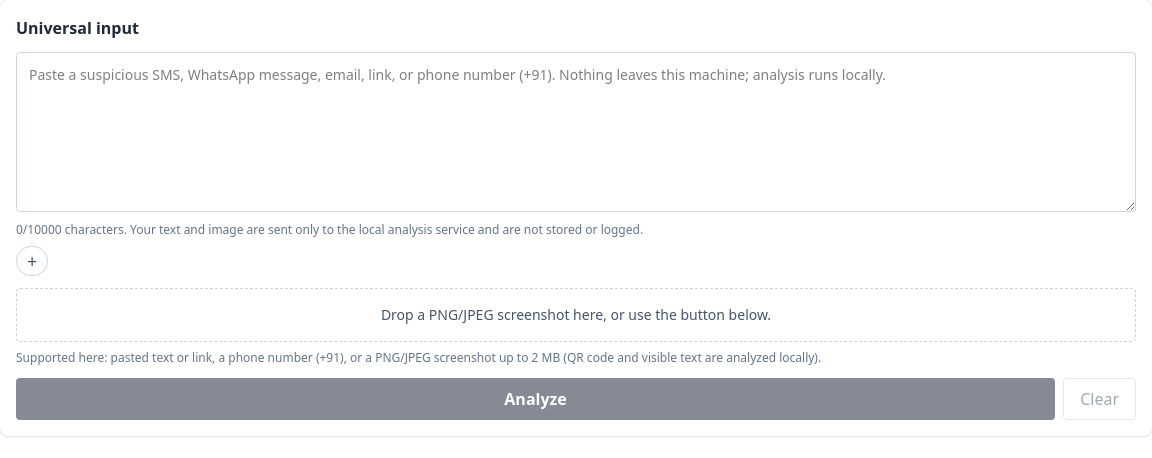
Test: InputPanel › shows the phone-number detected chip for phone input
Type "+91 98765-43210" into the text box.
click(576, 132); type("+91 98765-43210")  # box [16,52,1136,212]
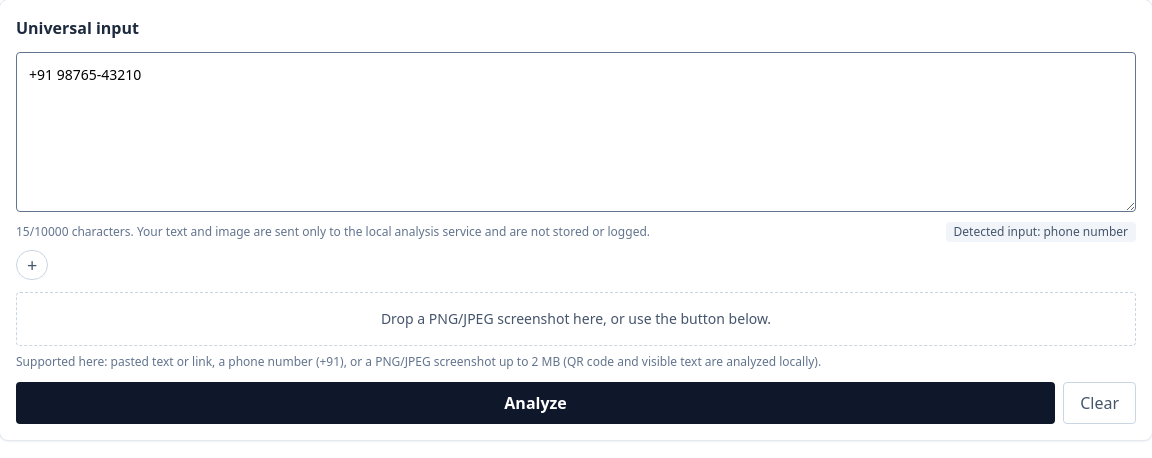
Expected: the text "Detected input: phone number" is shown, [946,222,1136,242]
